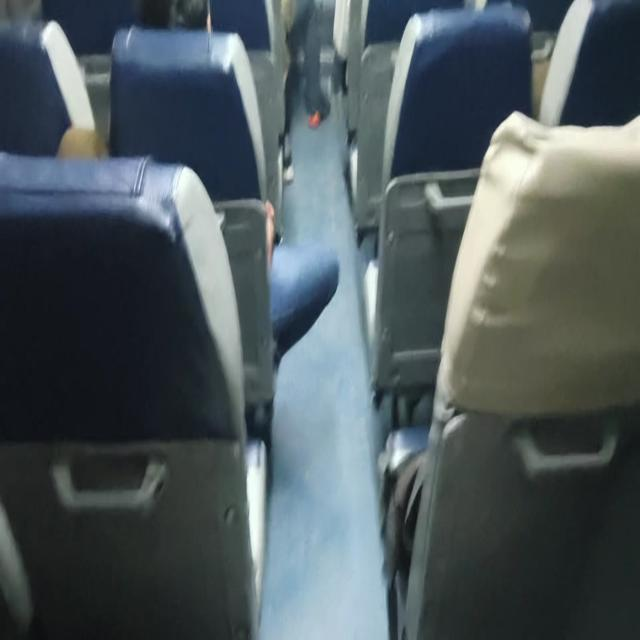person: (137, 0, 216, 50)
